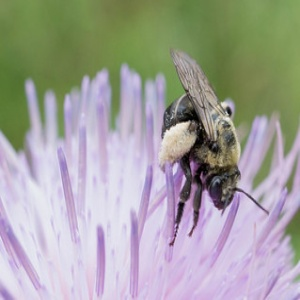bee: (157, 47, 270, 242)
